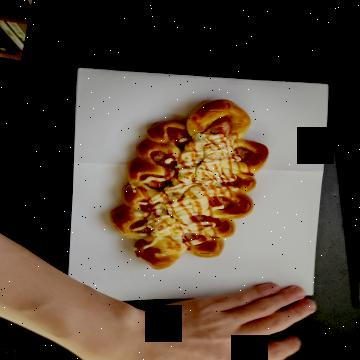pizza_bread: (110, 91, 279, 254)
